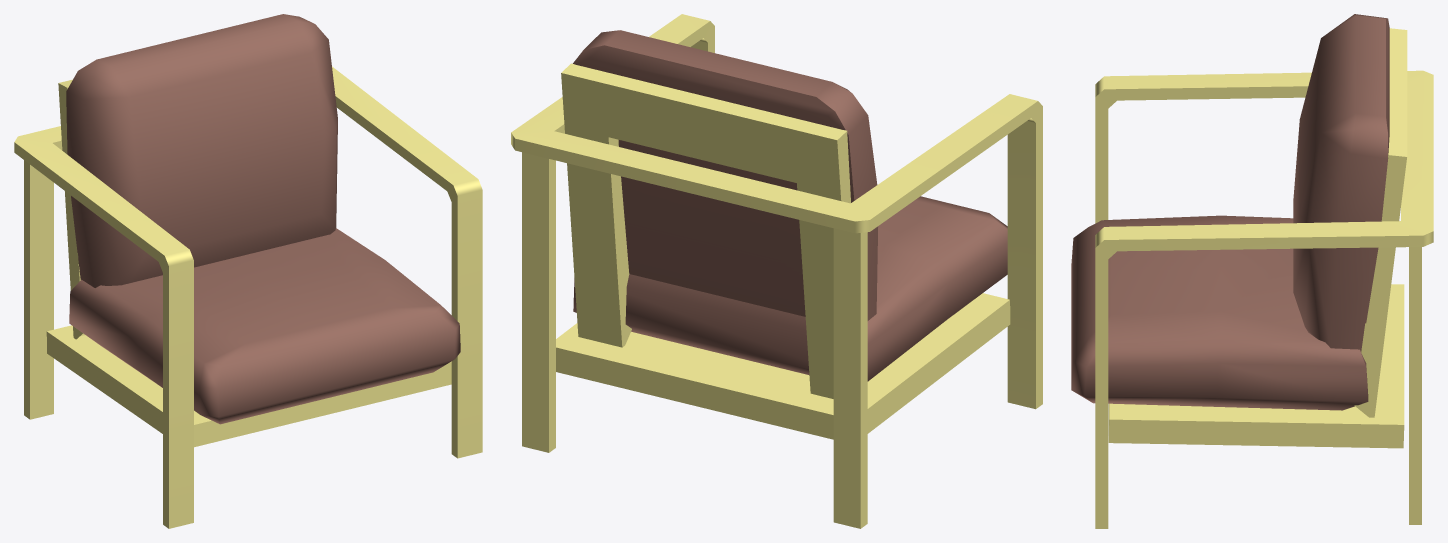
Rendered from lounge_chair_016.glb.
3 views of the same model, side by side, from view 1: azimuth 30°, elevation 25°; view 2: azimuth 150°, elevation 25°; view 3: azimuth 270°, elevation 25° (orthographic). The views are drawn at different scales.
Parts seen in each view (by area): view 1: lounge_chair_016; view 2: lounge_chair_016; view 3: lounge_chair_016.
Part boxes in pixels (x1,y1,x2,y2): lounge_chair_016: [14, 14, 482, 528]; lounge_chair_016: [511, 14, 1042, 528]; lounge_chair_016: [1071, 14, 1433, 528].
Size of the model in its own units: 0.7202 by 0.7791 by 0.669.
1 material, 1 textured.
